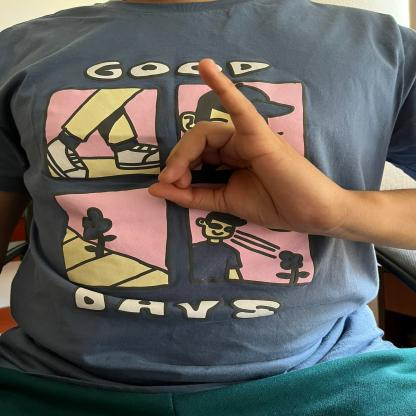D: (141, 53, 316, 237)
